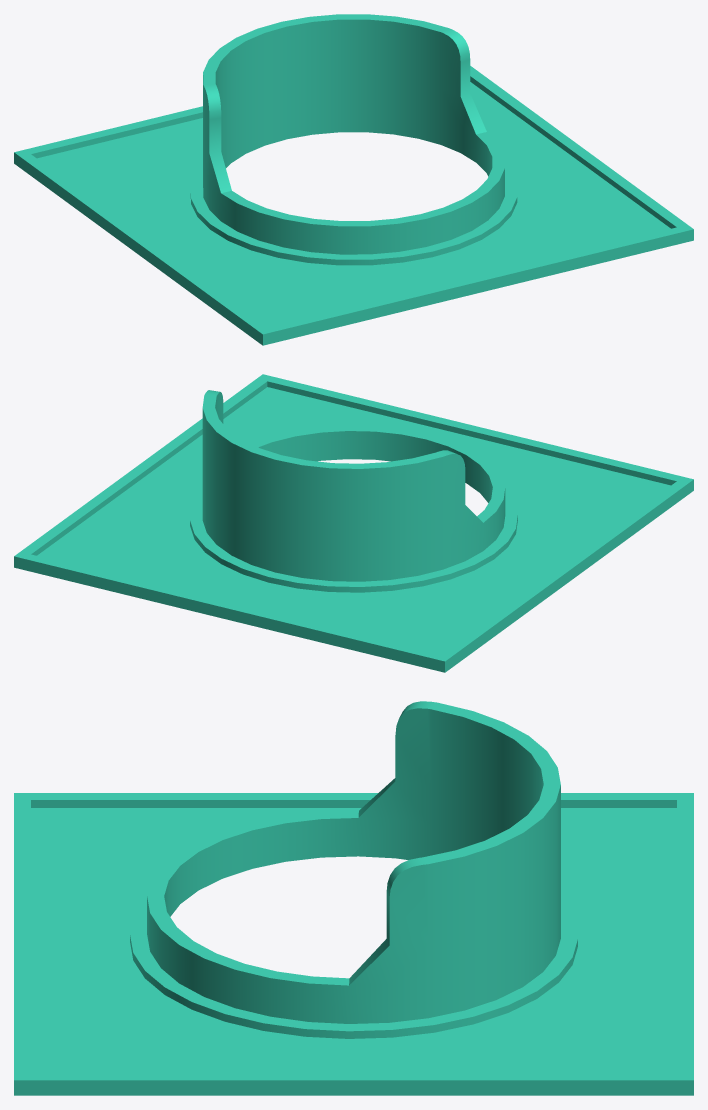
The model's file is Floor_A_4x4m_LadderTranzite.FBX.
3 views of the same model, one above another, from view 1: azimuth 30°, elevation 25°; view 2: azimuth 150°, elevation 25°; view 3: azimuth 270°, elevation 25° (orthographic). The views are drawn at different scales.
Parts seen in each view (by area): view 1: Floor_A_4x4m_LadderTranzite; view 2: Floor_A_4x4m_LadderTranzite; view 3: Floor_A_4x4m_LadderTranzite.
Boxes of the visible parts, left/top/right/bottom form: Floor_A_4x4m_LadderTranzite: left=14, top=14, right=693, bottom=345; Floor_A_4x4m_LadderTranzite: left=14, top=374, right=693, bottom=672; Floor_A_4x4m_LadderTranzite: left=14, top=701, right=693, bottom=1095.
Bounding box in the file's own units: 400 × 110 × 400.
